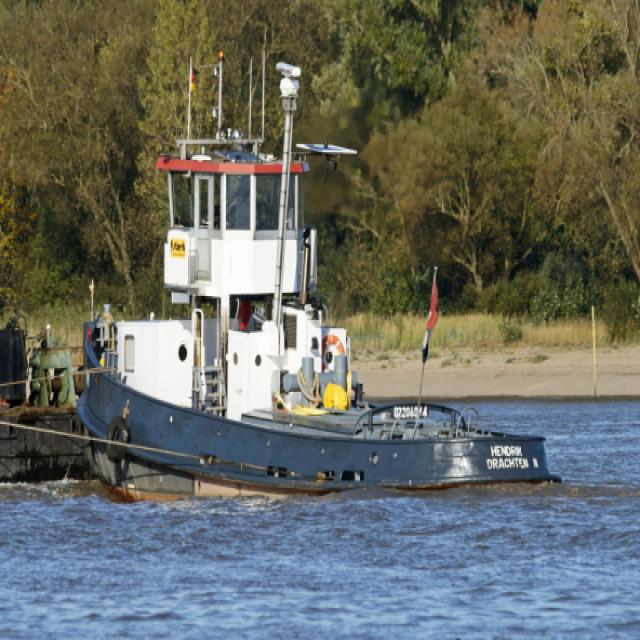tugboat: (71, 124, 569, 521)
